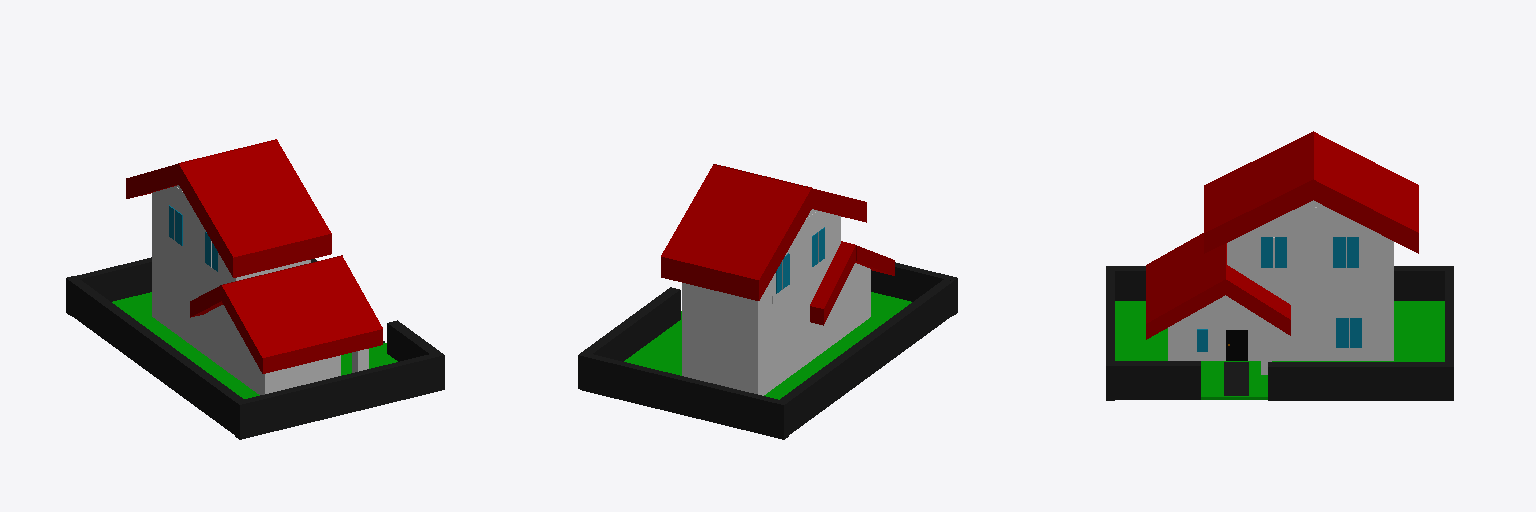
File: house.obj
3 views of the same model, side by side, from view 1: azimuth 30°, elevation 25°; view 2: azimuth 150°, elevation 25°; view 3: azimuth 270°, elevation 25° (orthographic).
Parts seen in each view (by area): view 1: Cube; view 2: Cube; view 3: Cube.
Boxes of the visible parts, x1,y1,x2,y2 form: Cube: [66, 139, 444, 439]; Cube: [578, 164, 957, 439]; Cube: [1106, 131, 1453, 400].
Bounding box in the file's own units: 13.99 × 12.33 × 20.41.